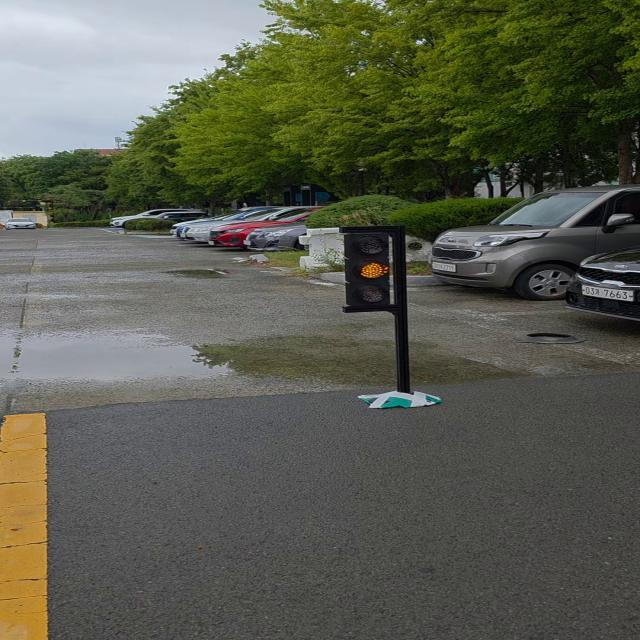yellow: (349, 229, 398, 310)
